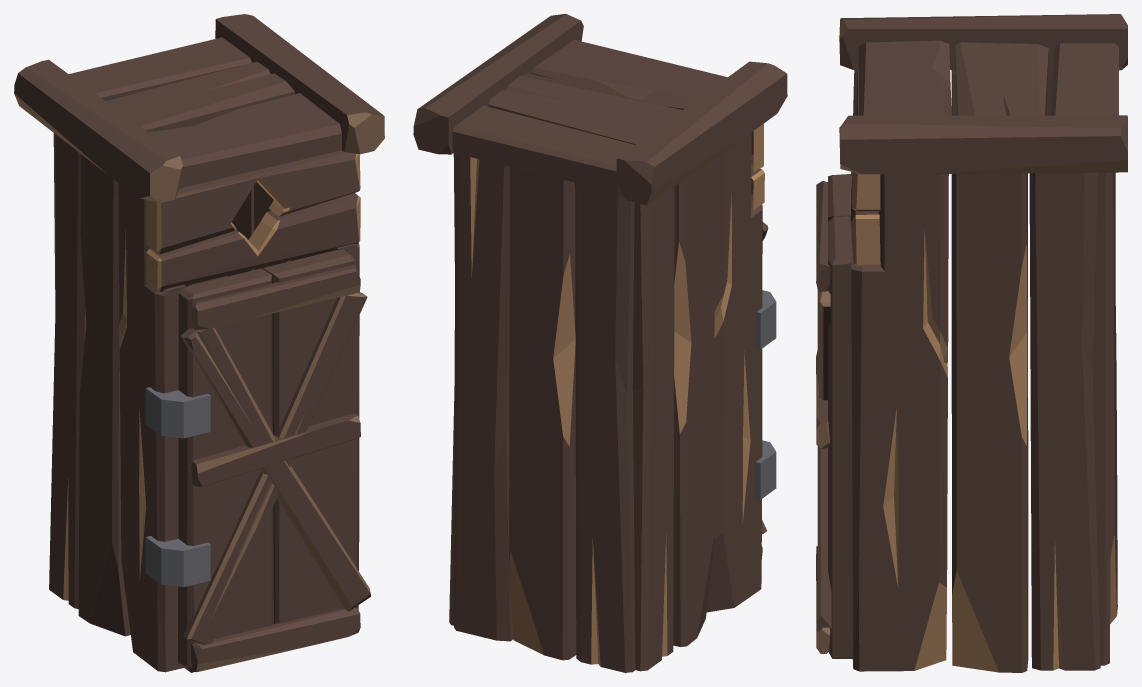
File: Privy.fbx
The picture shows the model from 3 angles, left to right: view 1: azimuth 30°, elevation 25°; view 2: azimuth 150°, elevation 25°; view 3: azimuth 270°, elevation 25°; orthographic projection. The views are drawn at different scales.
Parts seen in each view (by area): view 1: Privy; view 2: Privy; view 3: Privy.
Part boxes in pixels (x1=…): Privy: x1=14, y1=14, x2=384, y2=672; Privy: x1=413, y1=14, x2=787, y2=672; Privy: x1=816, y1=14, x2=1127, y2=672.
Size of the model in its own units: 33.92 by 70.81 by 36.5.
